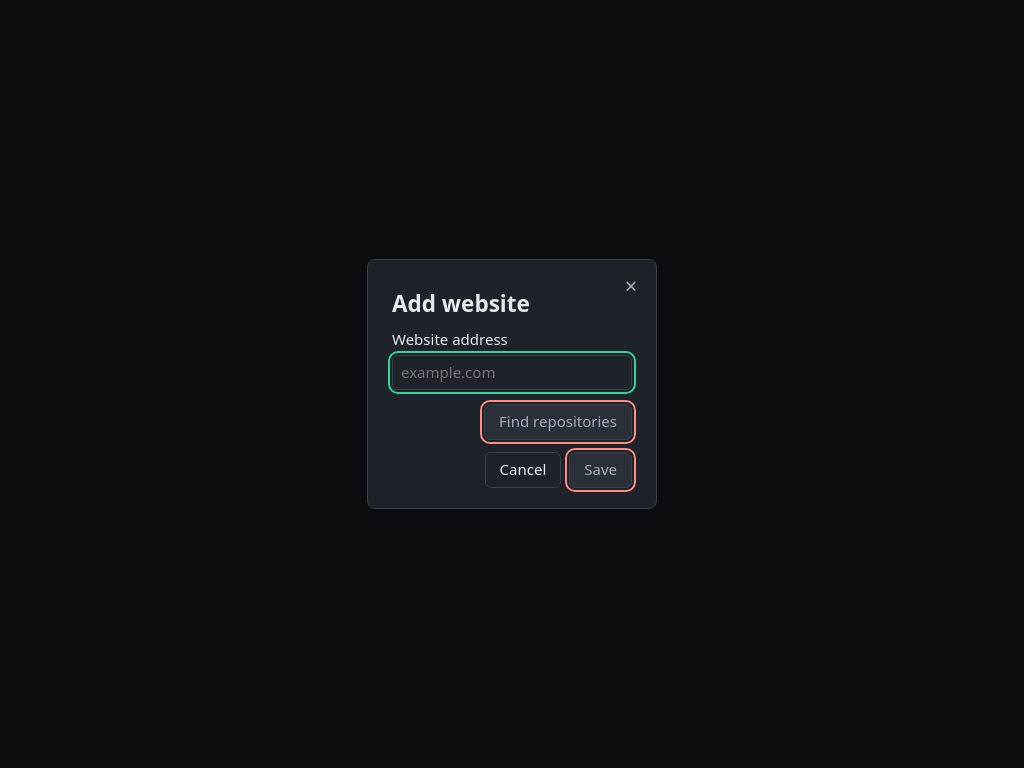
adding a website › says when the site could not be read and still takes a repository by hand
Type "example.org" into the field labelled "Website address" at coordinates (512, 372), box [392,355,632,390]
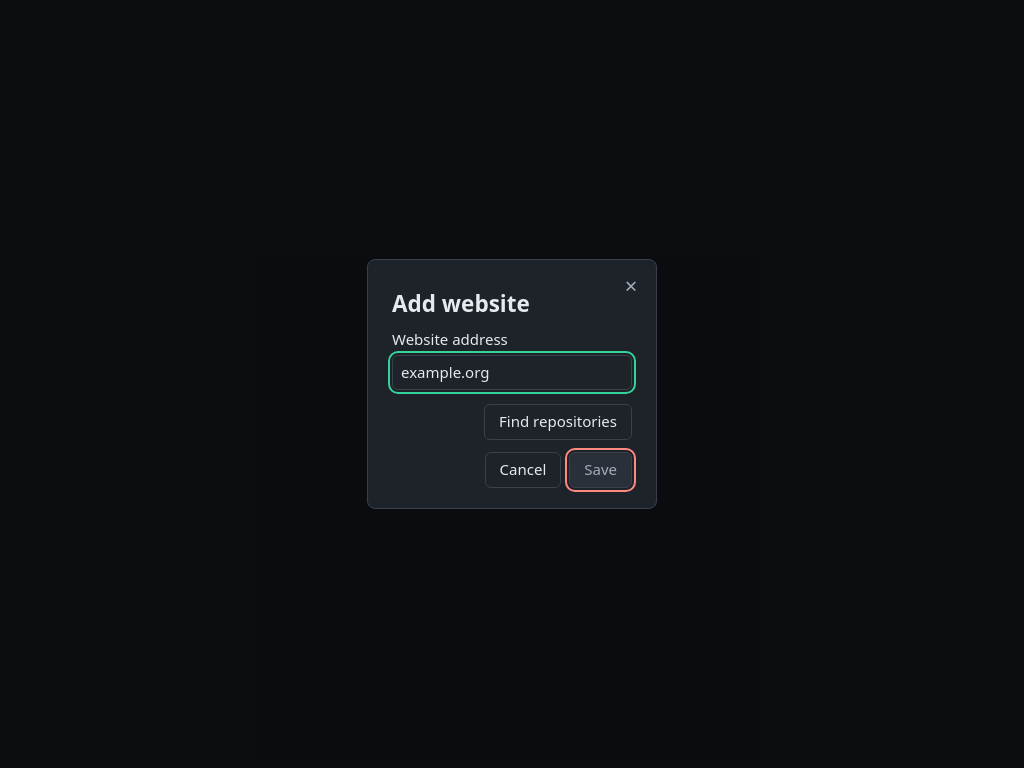
Click the button "Find repositories" at coordinates (558, 422), box [484,404,632,440]
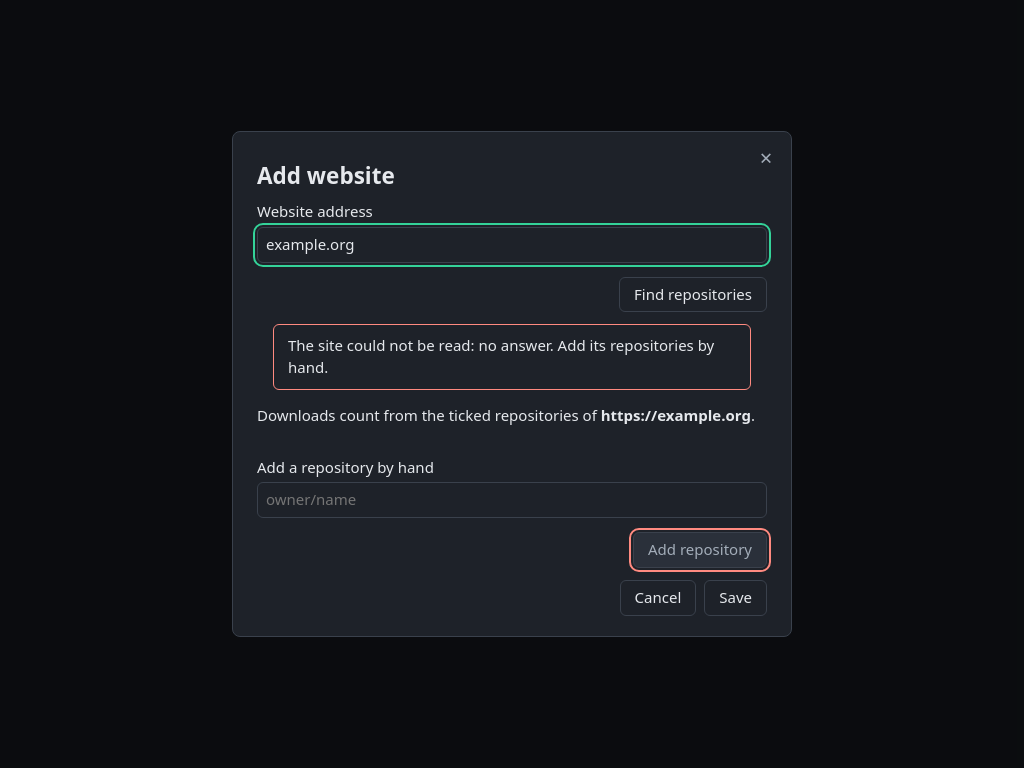
Check: the message reads "The site could not be read: no answer. Add its repositories by hand.", box [288,335,714,377]
Type "Widget" into the field labelled "Add a repository by hand" at coordinates (512, 500), box [257,482,767,518]
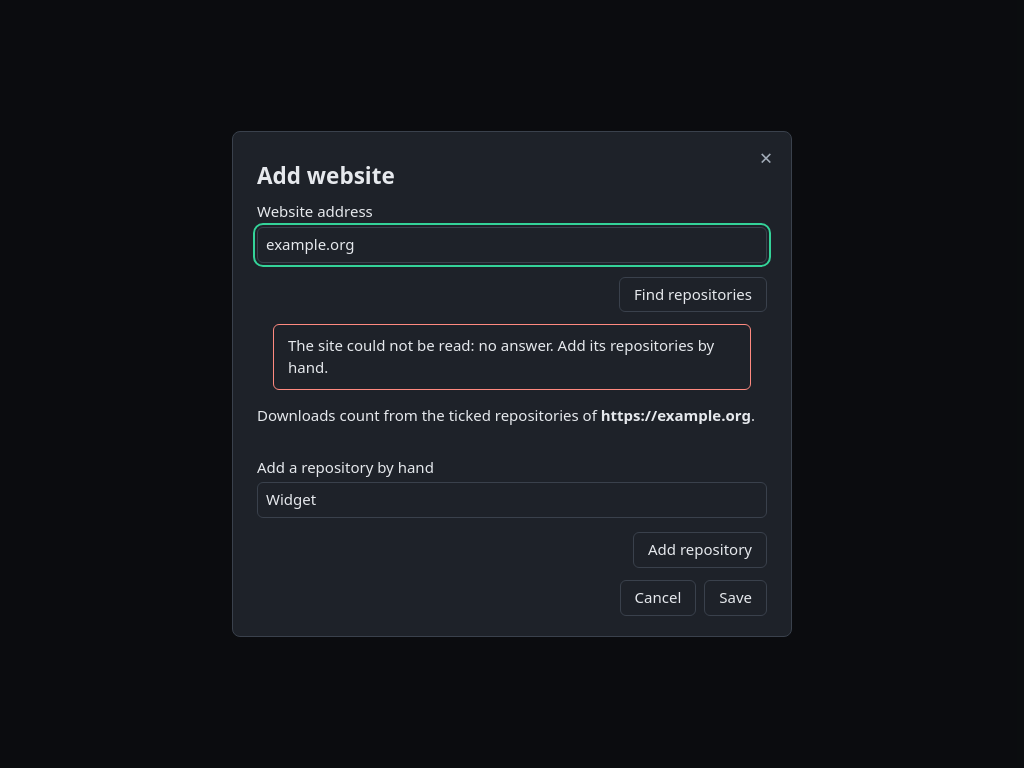
Press Enter in the field labelled "Add a repository by hand", box [257,482,767,518]
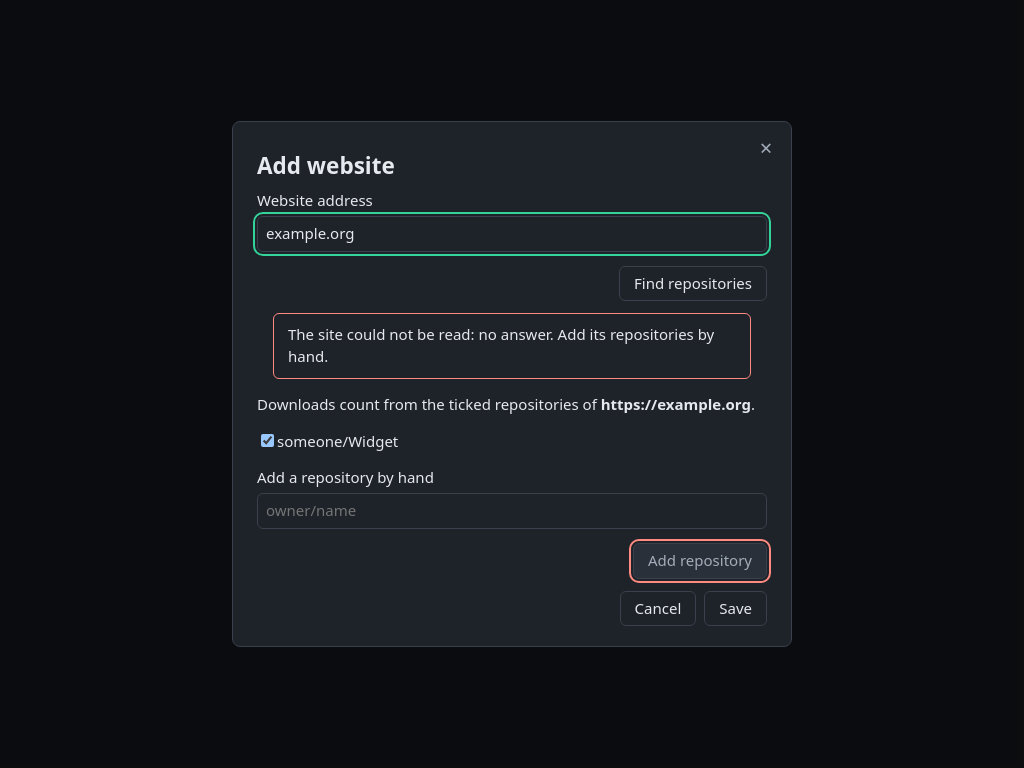
Check: the checkbox labelled "someone/Widget" is checked, box [261,434,274,447]
Check: the field labelled "Add a repository by hand" is empty
// The same repository again neither lists nor ticks it twice.
Type "someone/Widget" into the field labelled "Add a repository by hand" at coordinates (512, 511), box [257,493,767,529]
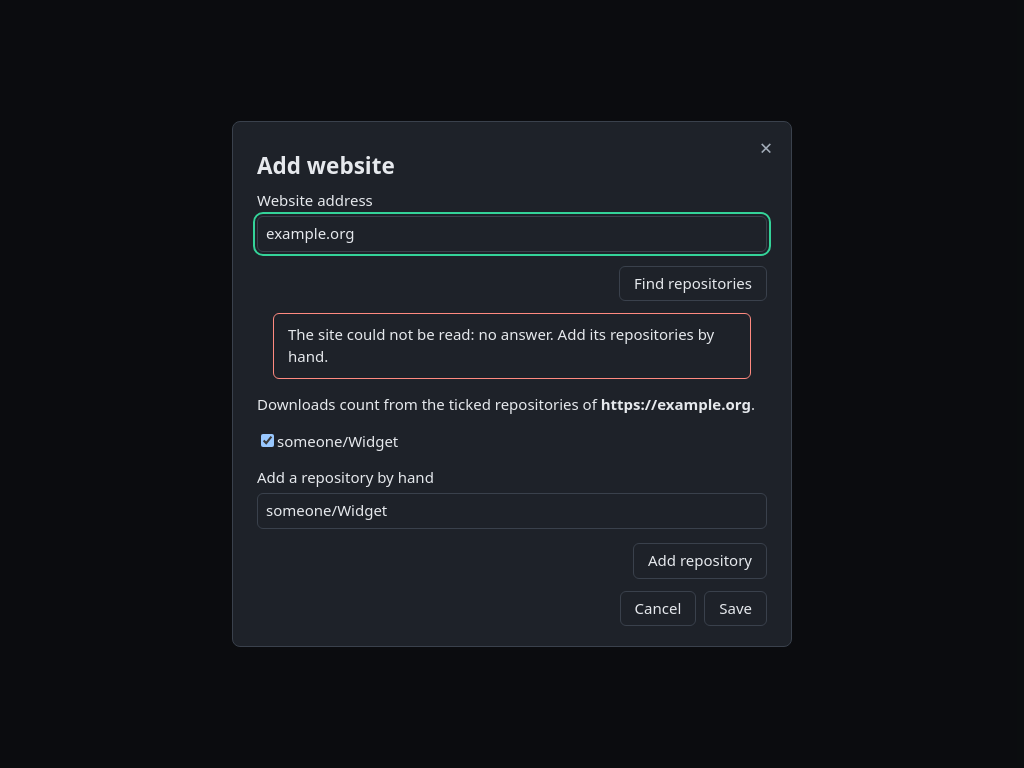
Click the button "Add repository" at coordinates (700, 561), box [633,543,767,579]
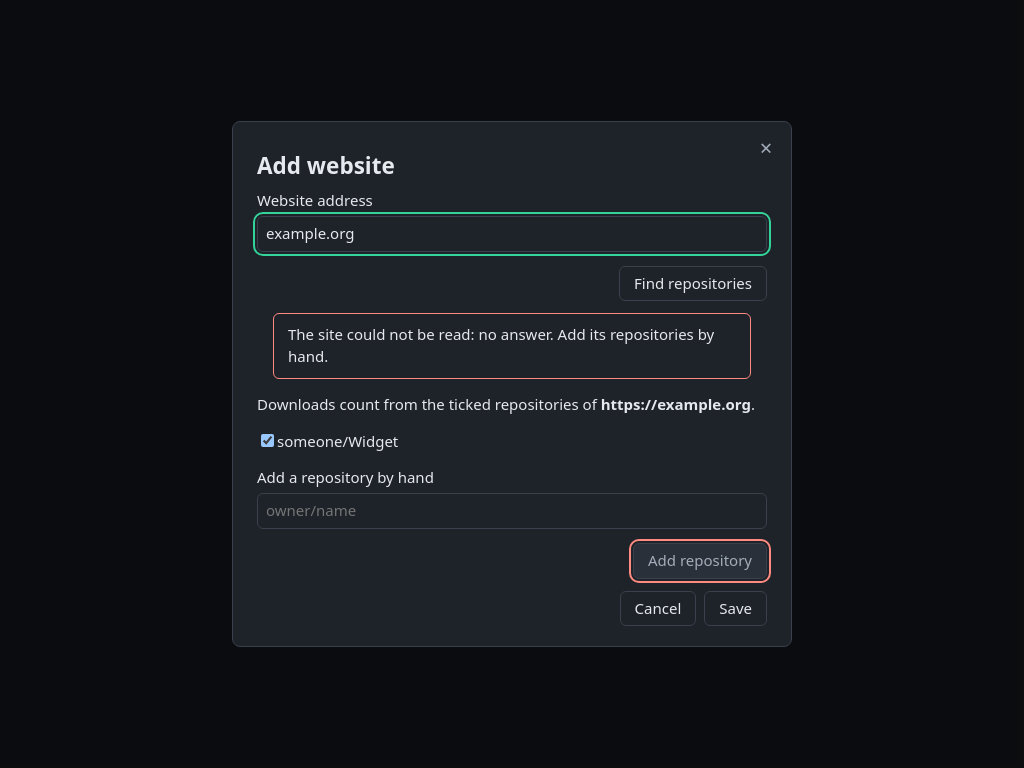
Check: the number of checkboxes is 1, box [261,434,274,447]
Check: the field labelled "Add a repository by hand" is empty, box [257,493,767,529]
